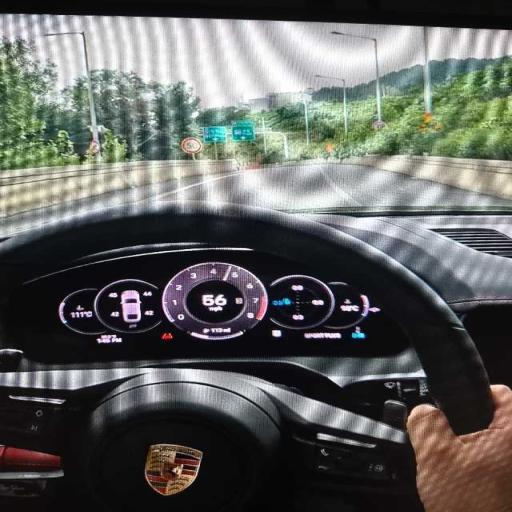car: (0, 11, 511, 511), (121, 290, 141, 322)
lane: (0, 164, 511, 236)
person: (408, 386, 511, 511)
